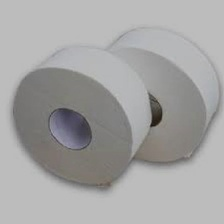tissue: (6, 37, 159, 191), (96, 20, 224, 171)
